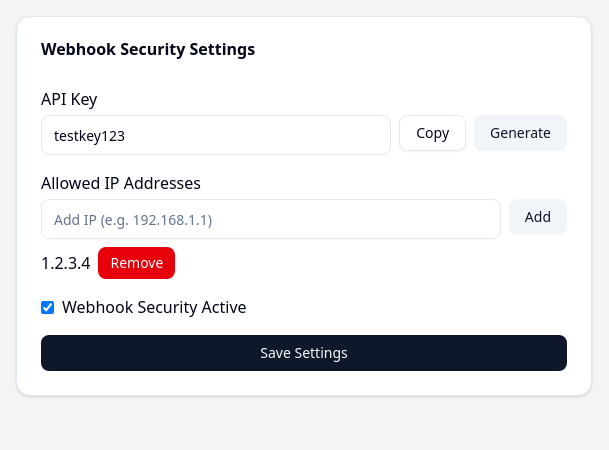
WebhookSecurityForm › can add and remove IP addresses
Expected: the text "Webhook Security Settings" is shown, [41,38,255,60]
Type "5.6.7.8" into the field with placeholder "Add IP (e.g. 192.168.1.1)" at {"x": 271, "y": 219}, box [41,199,501,239]
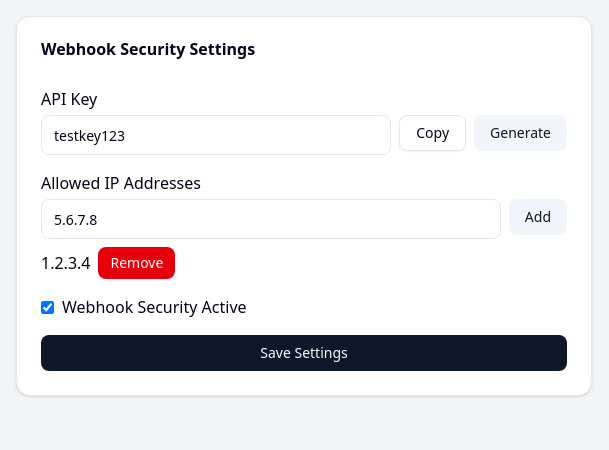
Click the button "Add" at {"x": 538, "y": 217}, box [509,199,567,235]
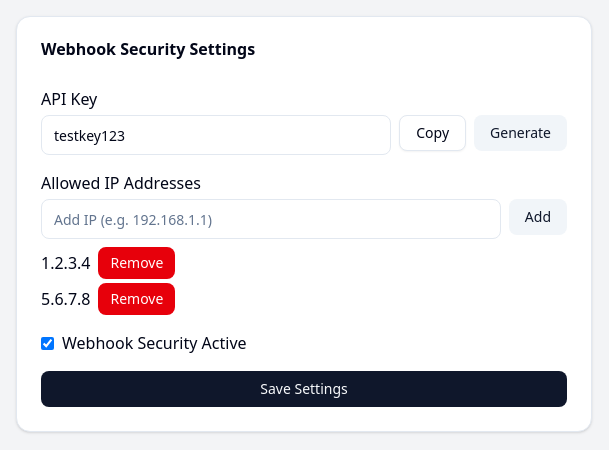
Result: the text "5.6.7.8" is shown at [41,287,90,311]
Click the button "Remove" next to "1.2.3.4" at {"x": 137, "y": 263}, box [98,247,175,279]
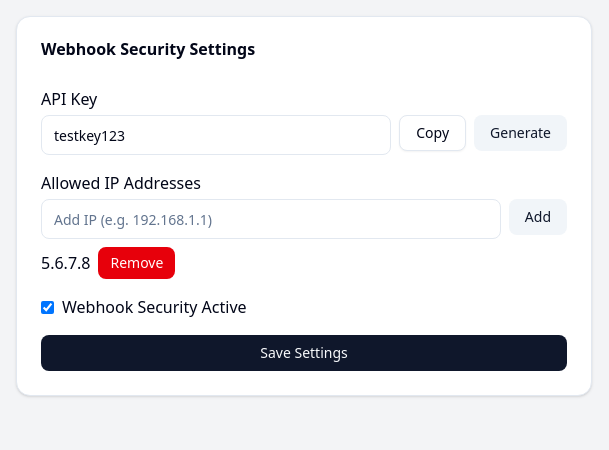
Result: the text "1.2.3.4" is gone
